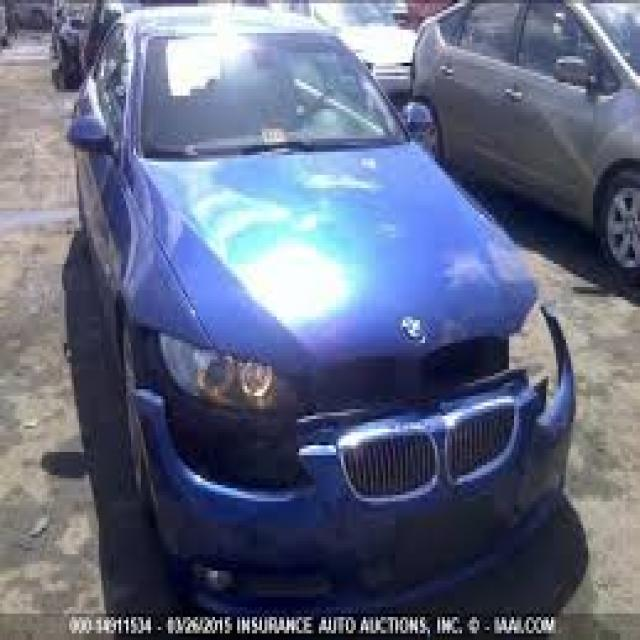minor: (120, 258, 640, 567)
